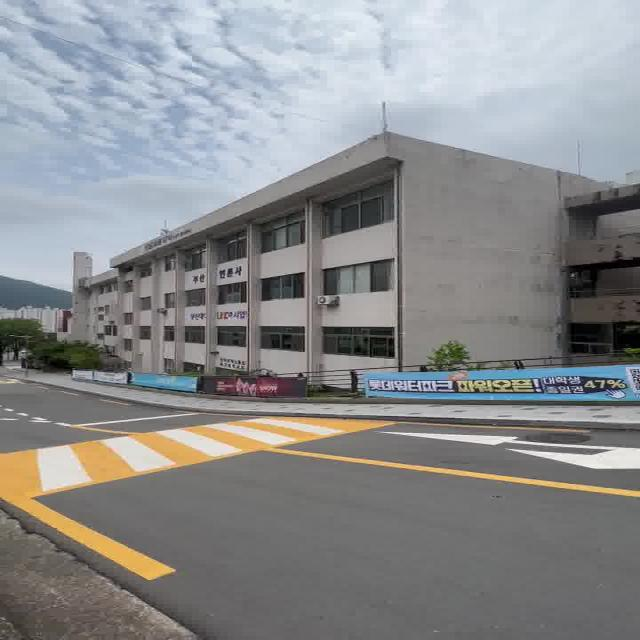building: (71, 162, 571, 363)
